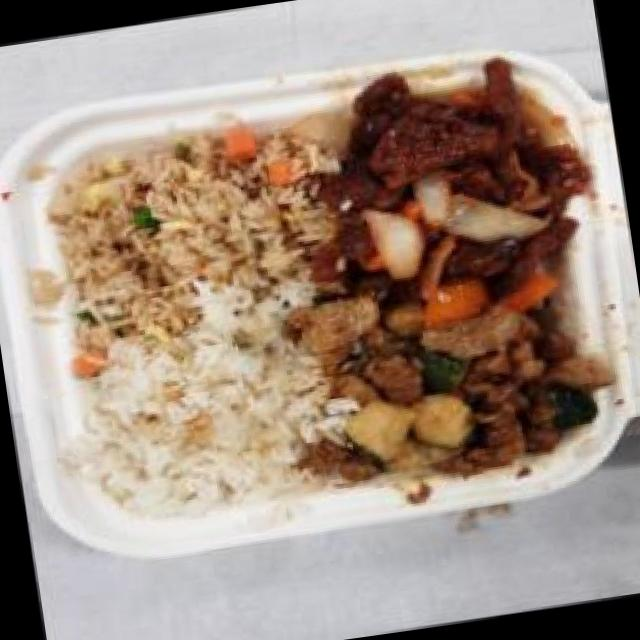Beijing Beef: (274, 38, 618, 312)
Fried Rice: (35, 112, 318, 356)
Kung Pao Chicken: (298, 246, 620, 504)
White Steamed Rice: (63, 324, 335, 532)
